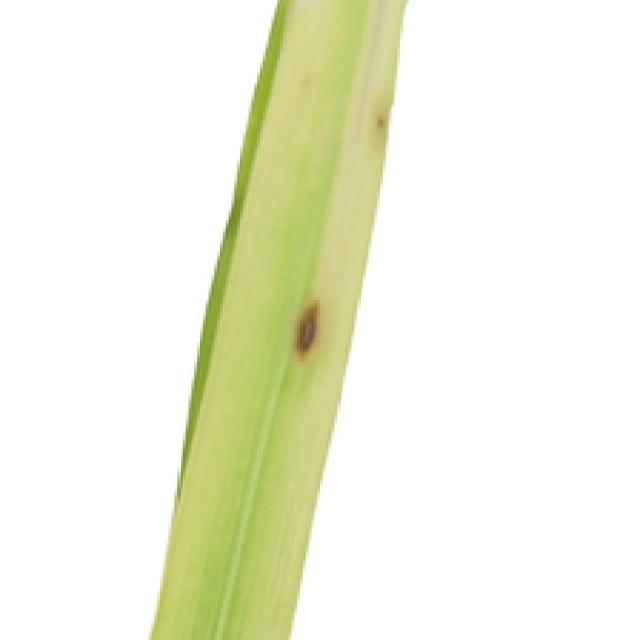Rice___Rice_Blast: (149, 0, 407, 637)
